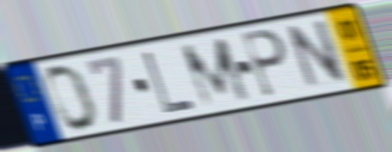7: (84, 52, 126, 127)
L: (139, 49, 199, 116)
M: (177, 34, 254, 112)
N: (284, 17, 350, 94)
O: (44, 62, 99, 134)
P: (239, 27, 291, 101)
